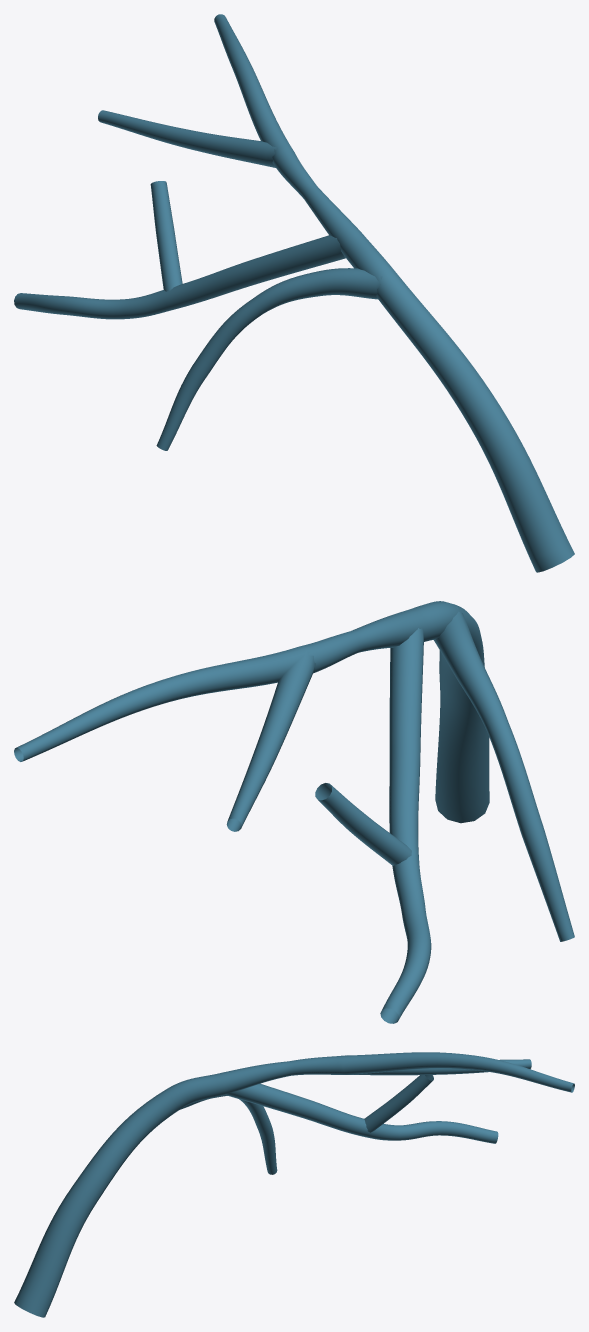
3 views of the same model, one above another, from view 1: azimuth 30°, elevation 25°; view 2: azimuth 150°, elevation 25°; view 3: azimuth 270°, elevation 25° (orthographic). The views are drawn at different scales.
Visible parts, largest first — view 1: 左肺内侧底段支气管（第7段）; view 2: 左肺内侧底段支气管（第7段）; view 3: 左肺内侧底段支气管（第7段）.
Part boxes in pixels (x1,y1,x2,y2): 左肺内侧底段支气管（第7段）: (14, 14, 574, 572); 左肺内侧底段支气管（第7段）: (14, 601, 574, 1023); 左肺内侧底段支气管（第7段）: (14, 1052, 574, 1317).
Size of the model in its own units: 0.0717 by 0.0824 by 0.1681.
